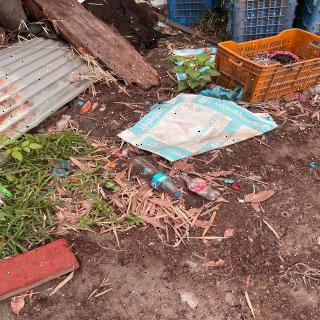Plastic-bottle: (124, 154, 185, 202), (180, 172, 225, 204)
